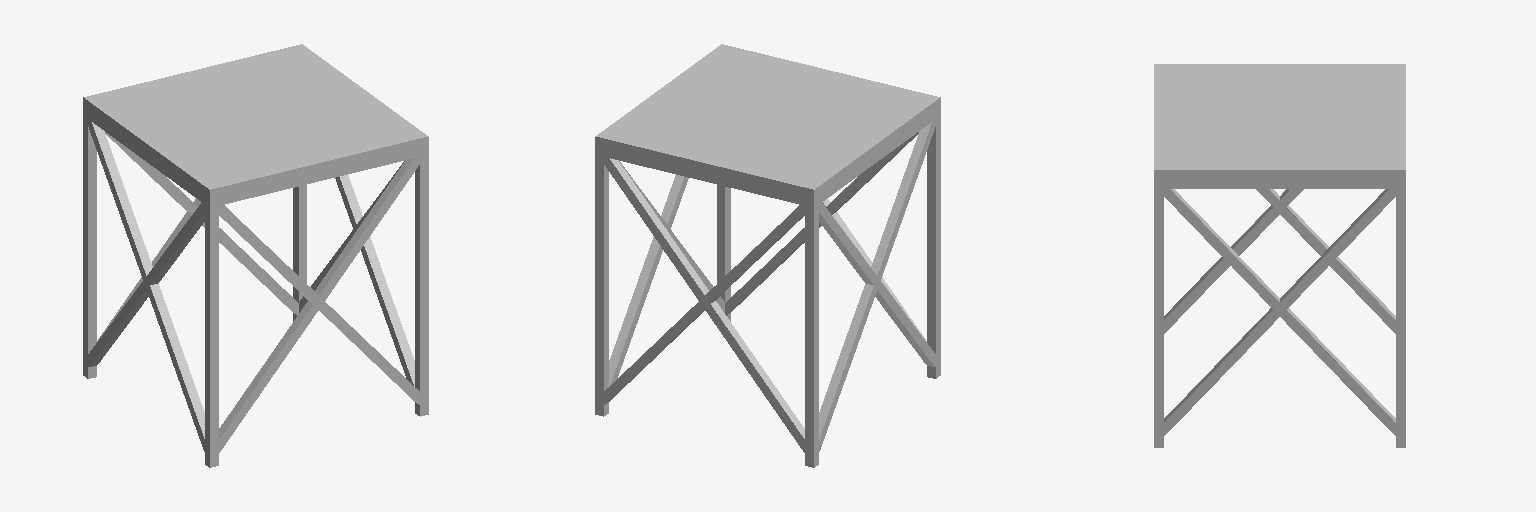
File: Platform.obj
3 views of the same model, side by side, from view 1: azimuth 30°, elevation 25°; view 2: azimuth 150°, elevation 25°; view 3: azimuth 270°, elevation 25° (orthographic).
Parts seen in each view (by area): view 1: Platform:pCube19; view 2: Platform:pCube19; view 3: Platform:pCube19.
Part boxes in pixels (x1,y1,x2,y2): Platform:pCube19: (83, 44, 428, 467); Platform:pCube19: (595, 44, 940, 467); Platform:pCube19: (1154, 64, 1405, 447).
Bounding box in the file's own units: 8.25 × 10.02 × 8.25.